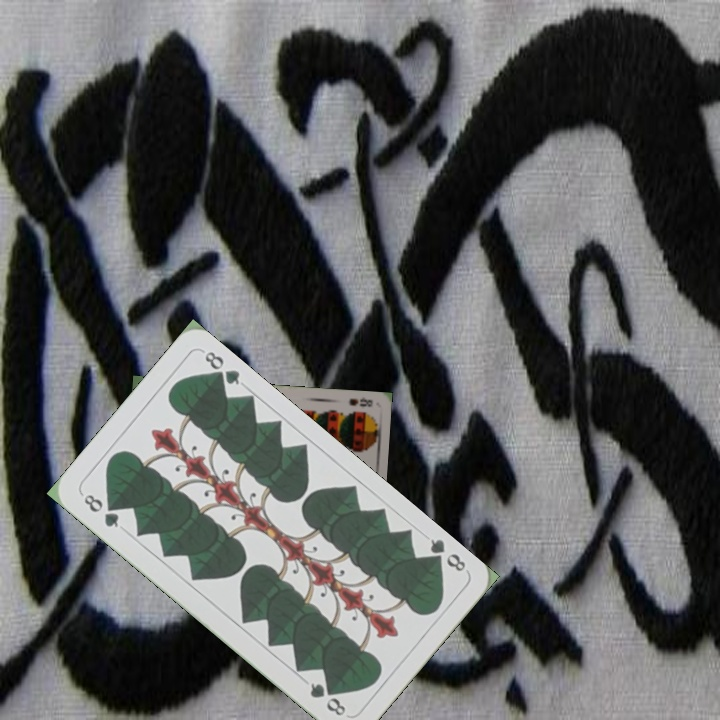G8: (423, 534, 469, 575), (79, 490, 122, 531)
S8: (345, 393, 375, 409)
